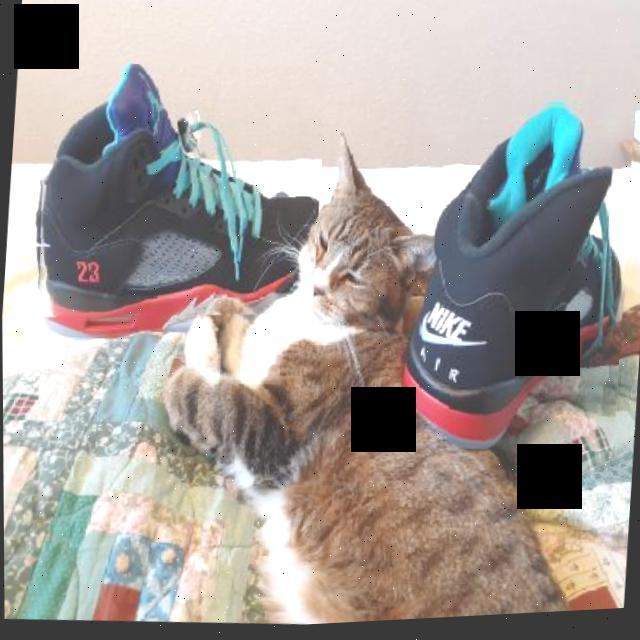shoe: (393, 93, 637, 467), (27, 51, 328, 336)
